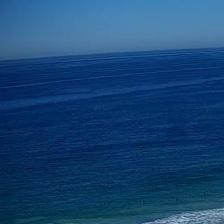surfer: (102, 202, 110, 206), (188, 193, 192, 197), (203, 192, 206, 196), (176, 198, 180, 201), (142, 201, 145, 205), (28, 211, 31, 214), (209, 190, 213, 192)
